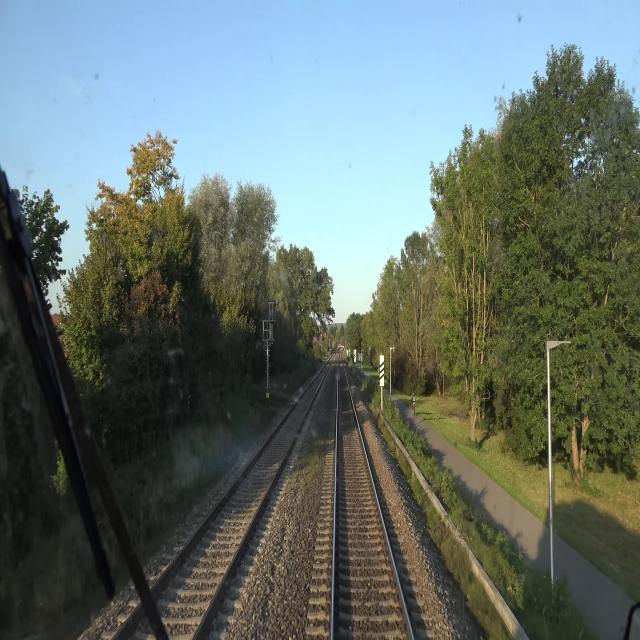rail-track: (167, 367, 325, 635), (335, 361, 410, 639)
